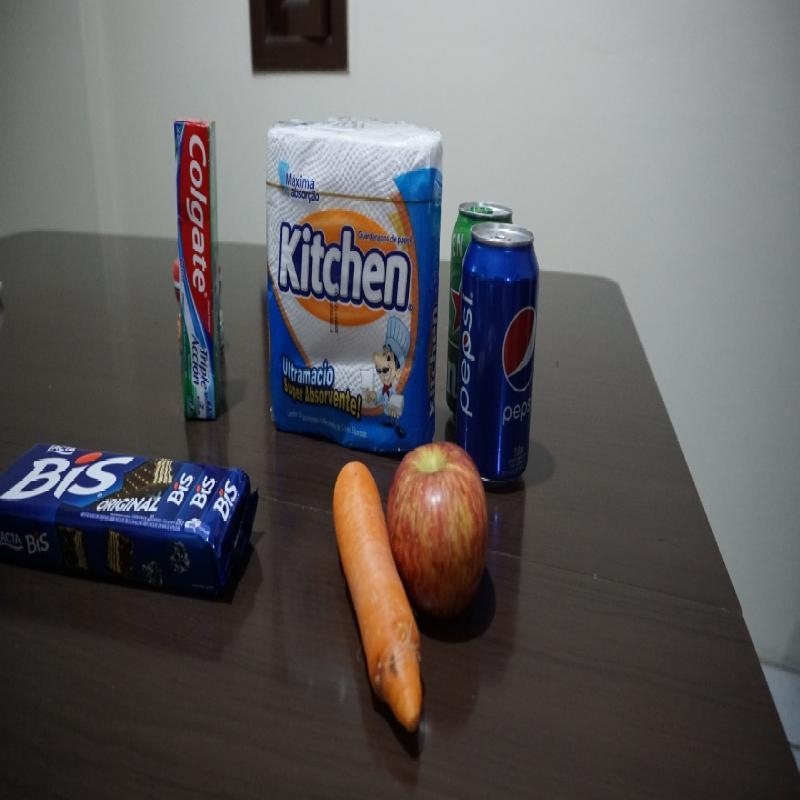Apple: (402, 440, 489, 624)
Carrot: (335, 462, 398, 716)
Napkin: (262, 123, 439, 438)
Soda can: (464, 228, 542, 438)
Toothpaste: (173, 117, 232, 424)
